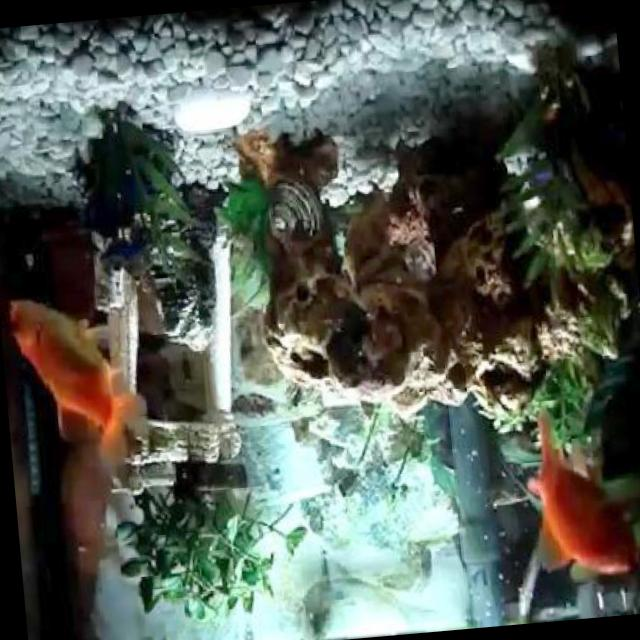GoldFish: (5, 282, 158, 492), (521, 408, 638, 585)
